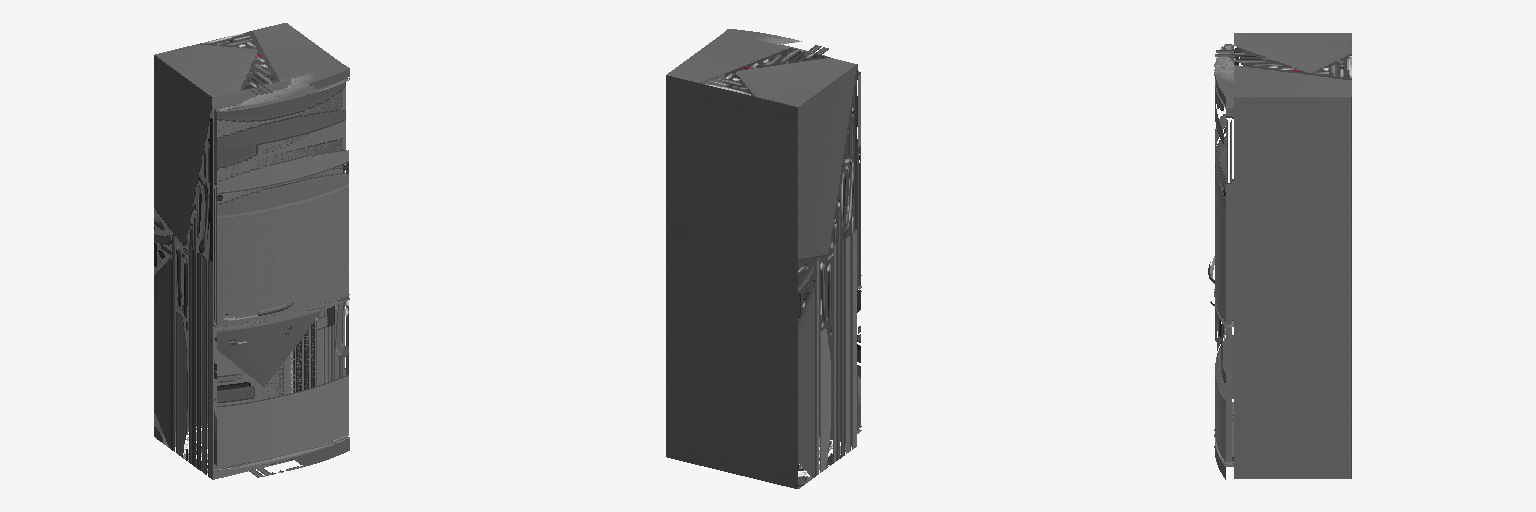
3 views of the same model, side by side, from view 1: azimuth 30°, elevation 25°; view 2: azimuth 150°, elevation 25°; view 3: azimuth 270°, elevation 25° (orthographic).
Parts seen in each view (by area): view 1: solid_003, solid_002, solid_001; view 2: solid_002, solid_003; view 3: solid_003.
Boxes of the visible parts, x1=… form: solid_003: x1=154, y1=23, x2=349, y2=479; solid_002: x1=154, y1=31, x2=279, y2=472; solid_001: x1=213, y1=78, x2=349, y2=470; solid_002: x1=666, y1=75, x2=851, y2=488; solid_003: x1=667, y1=29, x2=860, y2=486; solid_003: x1=1214, y1=33, x2=1351, y2=479.
Bounding box in the file's own units: 0.6107 × 1.67 × 0.5696.
1 materials, 1 textured.